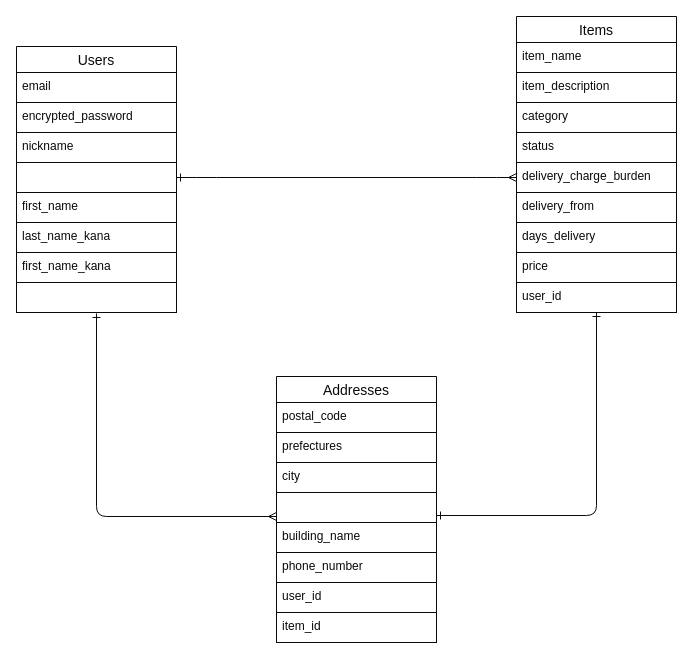
The diagram is 693 pixels wide and 659 high, and some of its shapes have lost their labels. The shapes that lost their labels are listed below. From the top down, each one's centre as x and y in pixels, then its label:
At pixel 96 177: "last_name".
At pixel 96 297: "birth_date".
At pixel 356 507: "block".
